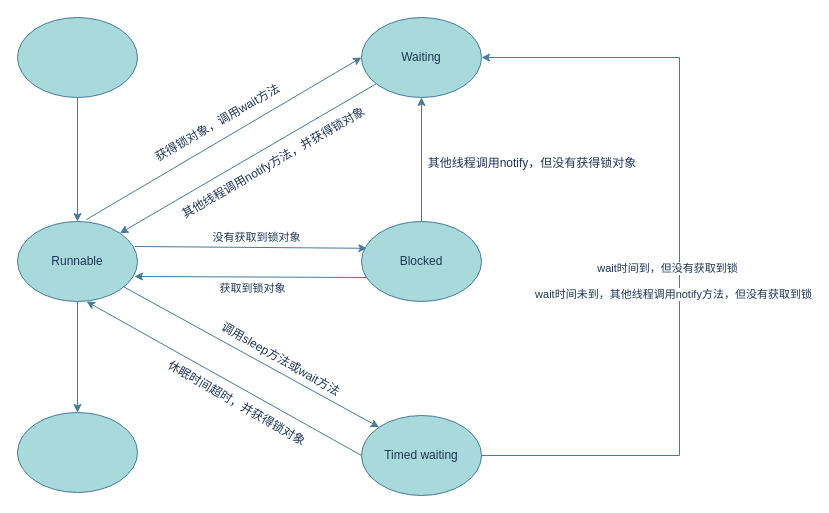
Image size: 829x513. Some labels were removed from this diagram. Each missing label, with the centre of its shape:
"New" goes at (x=77, y=57).
"Teminated" goes at (x=77, y=452).
